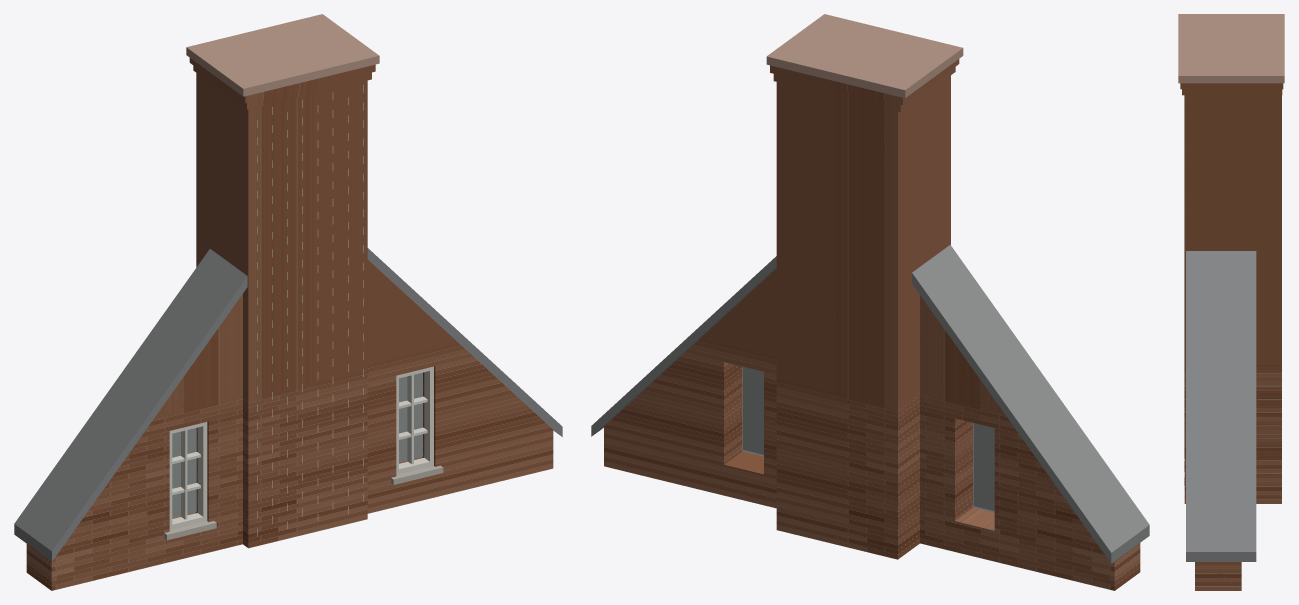
The model's file is wulumuqi-180-gable-chimney-and-lights-near.glb.
The picture shows the model from 3 angles, left to right: view 1: azimuth 30°, elevation 25°; view 2: azimuth 150°, elevation 25°; view 3: azimuth 270°, elevation 25°; orthographic projection. The views are drawn at different scales.
Parts seen in each view (by area): view 1: 乌鲁木齐南路180号住宅山墙烟囱与阁楼双窗; view 2: 乌鲁木齐南路180号住宅山墙烟囱与阁楼双窗; view 3: 乌鲁木齐南路180号住宅山墙烟囱与阁楼双窗.
Boxes of the visible parts, left/top/right/bottom form: 乌鲁木齐南路180号住宅山墙烟囱与阁楼双窗: left=14, top=14, right=562, bottom=590; 乌鲁木齐南路180号住宅山墙烟囱与阁楼双窗: left=591, top=14, right=1149, bottom=590; 乌鲁木齐南路180号住宅山墙烟囱与阁楼双窗: left=1178, top=14, right=1284, bottom=590.
Bounding box in the file's own units: 3.79 × 3.29 × 0.732.
Materials: 6 (1 with a texture image).
